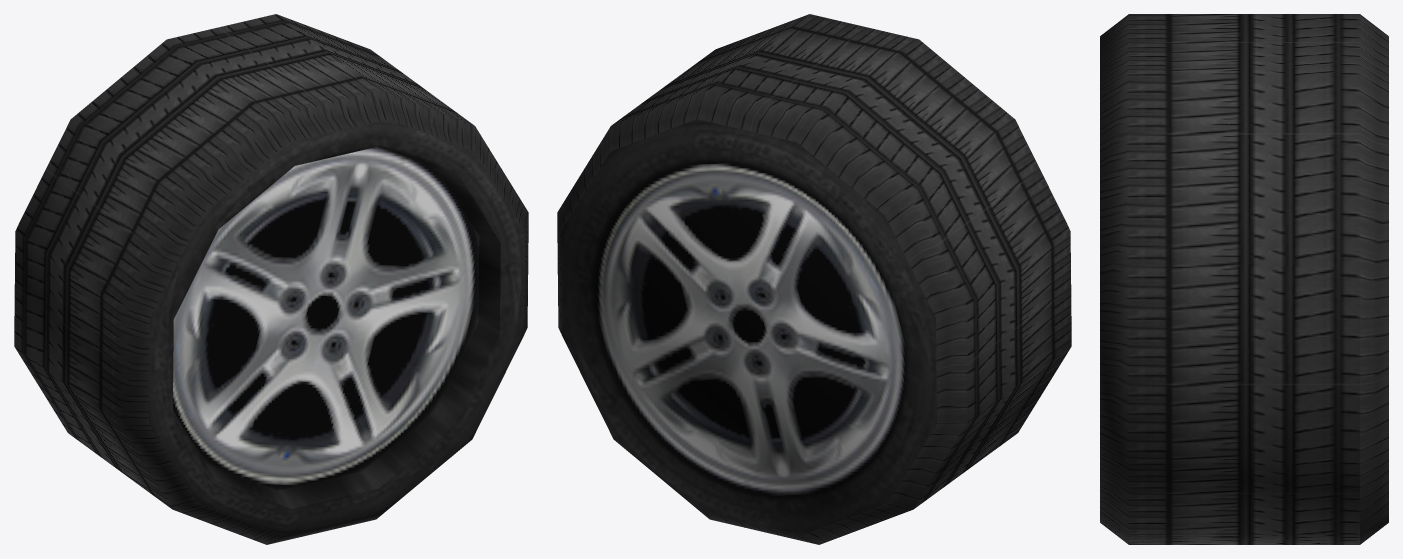
The model's file is RuedaTrasera 1.FBX.
The picture shows the model from 3 angles, left to right: view 1: azimuth 30°, elevation 25°; view 2: azimuth 150°, elevation 25°; view 3: azimuth 270°, elevation 25°; orthographic projection. The views are drawn at different scales.
Visible parts, largest first — view 1: RuedaTraseraMesh002; view 2: RuedaTraseraMesh002; view 3: RuedaTraseraMesh002.
Boxes of the visible parts, bbox=[...] form: RuedaTraseraMesh002: bbox=[14, 14, 528, 544]; RuedaTraseraMesh002: bbox=[557, 14, 1071, 544]; RuedaTraseraMesh002: bbox=[1100, 14, 1388, 544].
Size of the model in its own units: 27.24 by 27.24 by 15.03.
